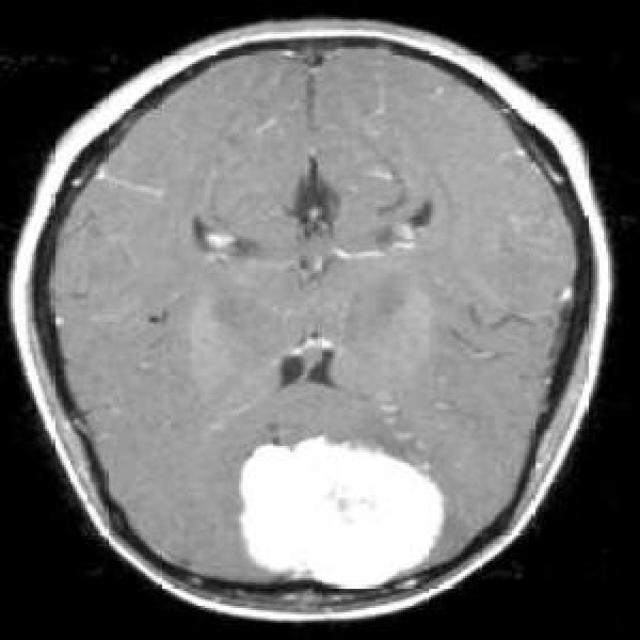Tumor: (245, 433, 442, 585)
